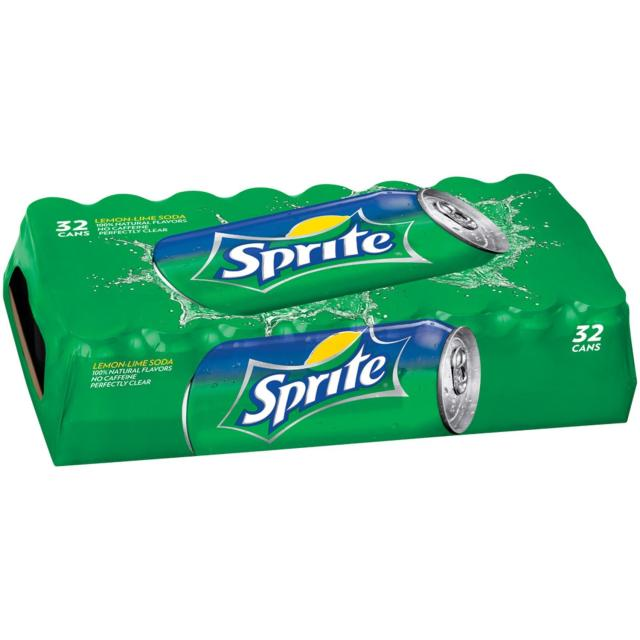sprite: (138, 188, 522, 303), (164, 324, 509, 444)
